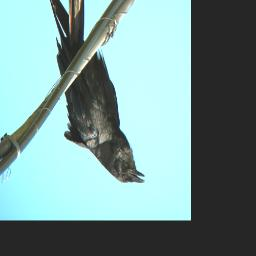Crow: (46, 0, 146, 186)
